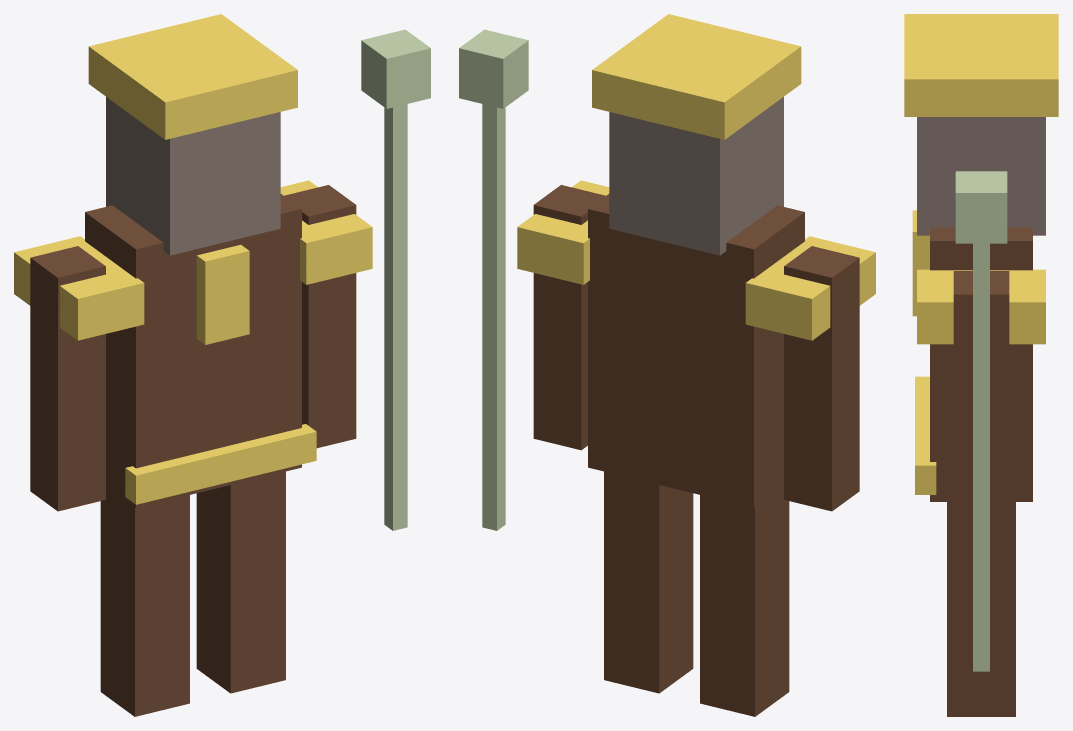
File: 16_draven_riftwalker_custodian_from_core.glb
The picture shows the model from 3 angles, left to right: view 1: azimuth 30°, elevation 25°; view 2: azimuth 150°, elevation 25°; view 3: azimuth 270°, elevation 25°; orthographic projection.
Parts seen in each view (by area): view 1: Draven Riftwalker, Custodian from Core; view 2: Draven Riftwalker, Custodian from Core; view 3: Draven Riftwalker, Custodian from Core.
Part boxes in pixels (x1,y1,x2,y2): Draven Riftwalker, Custodian from Core: [14, 14, 430, 716]; Draven Riftwalker, Custodian from Core: [459, 14, 875, 716]; Draven Riftwalker, Custodian from Core: [904, 14, 1058, 716].
Size of the model in its own units: 0.9647 by 1.55 by 0.3421.
